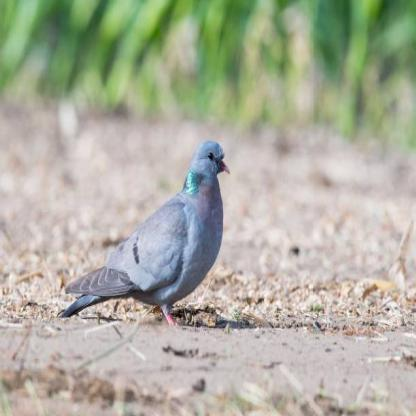Rock Pigeon: (64, 140, 236, 315)
